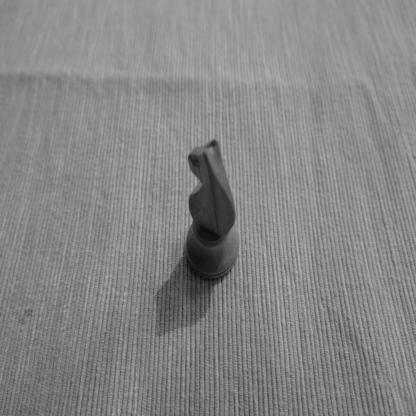white-knight: (186, 138, 240, 282)
